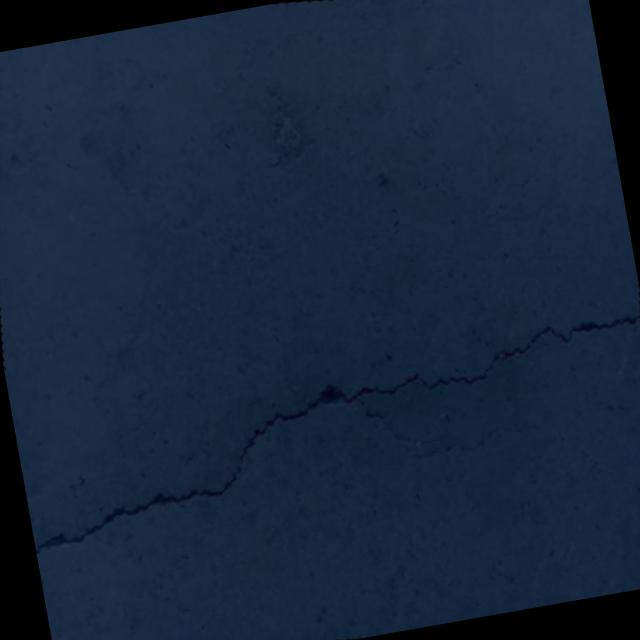crack: (2, 247, 640, 628), (396, 406, 550, 476)
